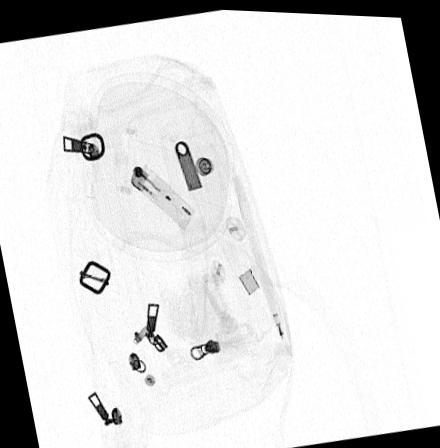Lighter: (128, 159, 194, 229)
